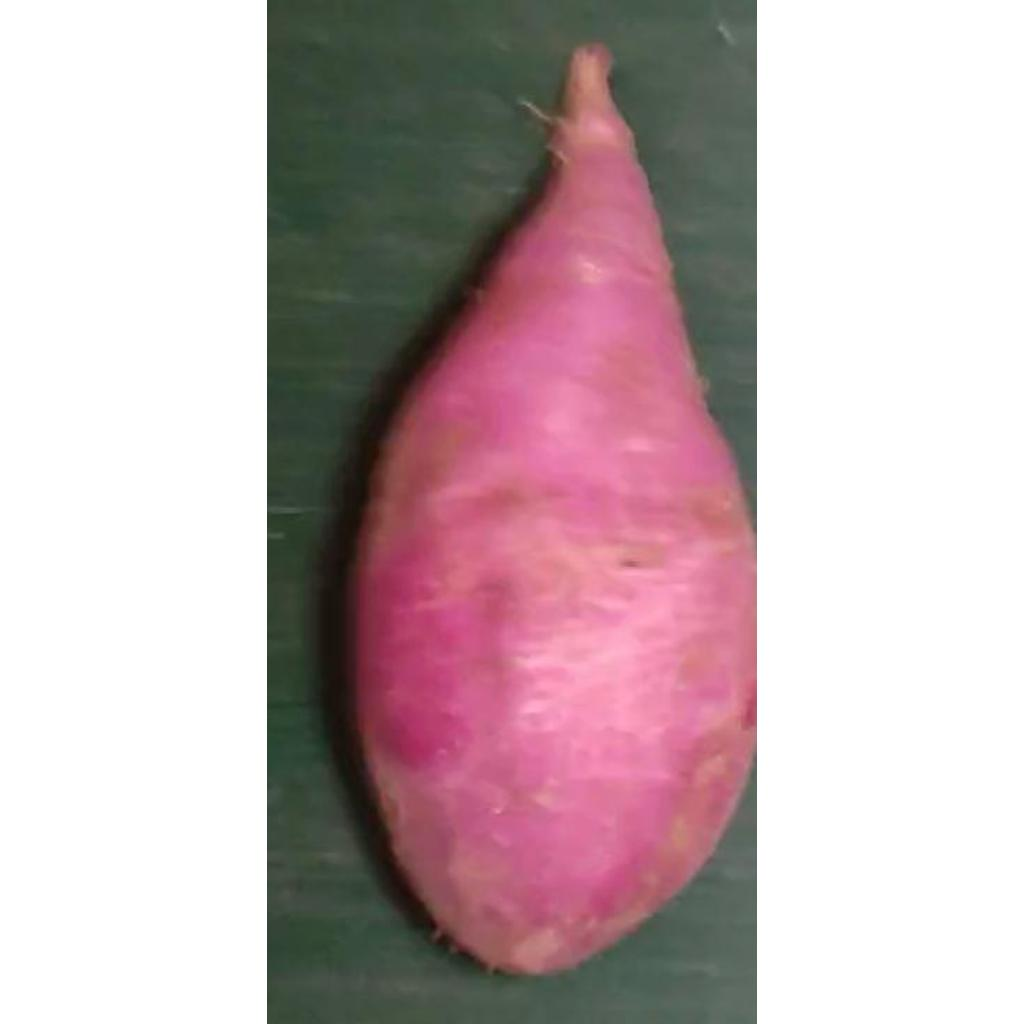Sweet Potato: (341, 43, 758, 979)
